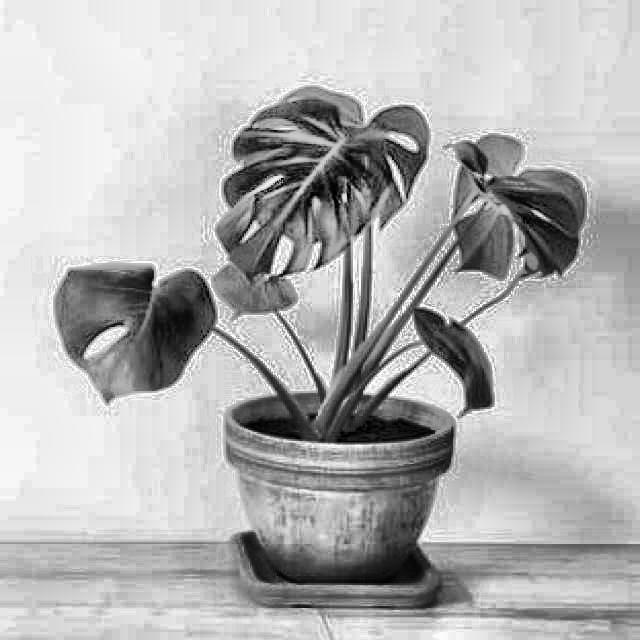plants: (44, 73, 594, 604)
